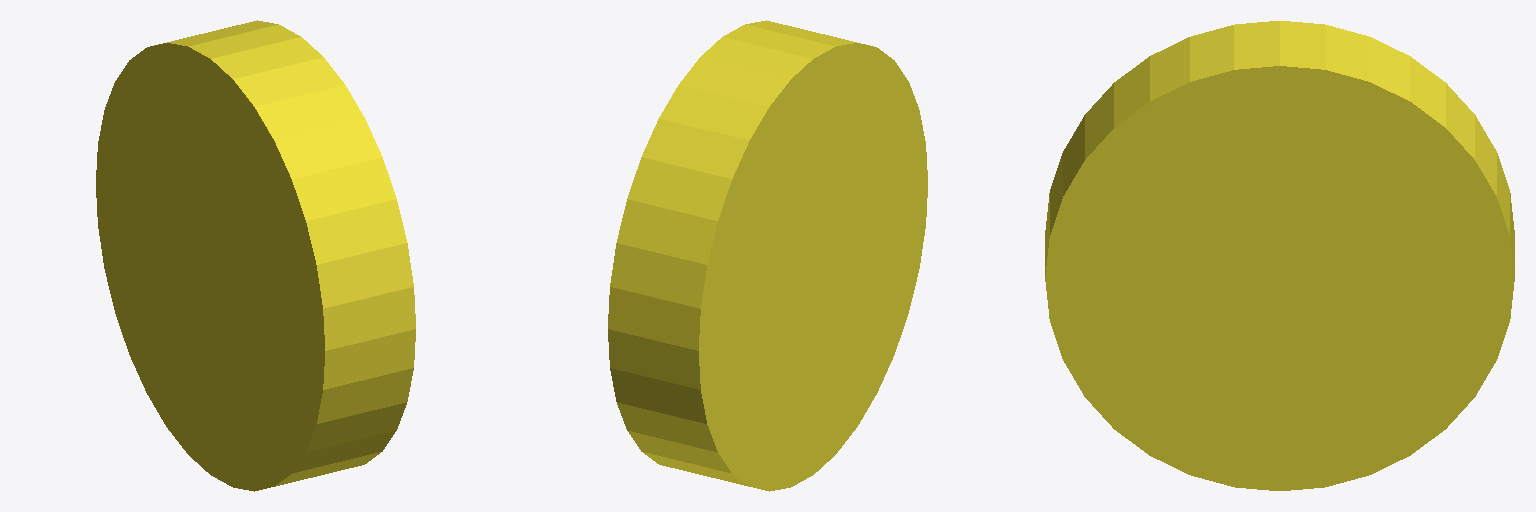
robot.urdf — panda:
<?xml version="1.0" ?>
<!-- =================================================================================== -->
<!-- |    This document was autogenerated by xacro from panda_arm_hand_ur5e_gripper_scene_real.urdf.xacro | -->
<!-- |    EDITING THIS FILE BY HAND IS NOT RECOMMENDED                                 | -->
<!-- =================================================================================== -->
<robot name="panda">
  <link name="world"/>
  <joint name="panda_with_ur5_gripper_joint_world" type="fixed">
    <parent link="world"/>
    <child link="panda_with_ur5_gripper_link0"/>
    <origin rpy="0 0 0" xyz="0 0 0"/>
  </joint>
  <link name="panda_with_ur5_gripper_link0">
    <visual>
      <origin rpy="0 0 0" xyz="0 0 0"/>
      <geometry>
        <mesh filename="file://[local-path]/xembody/cross_embodiment_ws/install/gazebo_env/share/gazebo_env/meshes/panda/visual/link0.dae"/>
      </geometry>
      <material name="LightGrey">
        <color rgba="0.7 0.7 0.7 1.0"/>
      </material>
    </visual>
    <collision>
      <geometry>
        <mesh filename="file://[local-path]/xembody/cross_embodiment_ws/install/gazebo_env/share/gazebo_env/meshes/panda/collision/link0.stl"/>
      </geometry>
    </collision>
    <inertial>
      <origin rpy="0 0 0" xyz="0 0 0"/>
      <mass value="2.8142028896"/>
      <inertia ixx="0.0129886979" ixy="0.0" ixz="0.0" iyy="0.0165355284" iyz="0" izz="0.0203311636"/>
    </inertial>
  </link>
  <link name="panda_with_ur5_gripper_link1">
    <visual>
      <origin rpy="0 0 0" xyz="0 0 0"/>
      <geometry>
        <mesh filename="file://[local-path]/xembody/cross_embodiment_ws/install/gazebo_env/share/gazebo_env/meshes/panda/visual/link1.dae"/>
      </geometry>
    </visual>
    <collision>
      <geometry>
        <mesh filename="file://[local-path]/xembody/cross_embodiment_ws/install/gazebo_env/share/gazebo_env/meshes/panda/collision/link1.stl"/>
      </geometry>
    </collision>
    <inertial>
      <origin rpy="0 0 0" xyz="0 0 0"/>
      <mass value="2.3599995791"/>
      <inertia ixx="0.0186863903" ixy="0.0" ixz="0.0" iyy="0.0143789874" iyz="0" izz="0.00906812"/>
    </inertial>
  </link>
  <joint name="panda_with_ur5_gripper_joint1" type="revolute">
    <safety_controller k_position="100.0" k_velocity="40.0" soft_lower_limit="-2.8973" soft_upper_limit="2.8973"/>
    <origin rpy="0 0 0" xyz="0 0 0.333"/>
    <parent link="panda_with_ur5_gripper_link0"/>
    <child link="panda_with_ur5_gripper_link1"/>
    <axis xyz="0 0 1"/>
    <limit effort="87" lower="-2.8973" upper="2.8973" velocity="2.1750"/>
  </joint>
  <link name="panda_with_ur5_gripper_link2">
    <visual>
      <origin rpy="0 0 0" xyz="0 0 0"/>
      <geometry>
        <mesh filename="file://[local-path]/xembody/cross_embodiment_ws/install/gazebo_env/share/gazebo_env/meshes/panda/visual/link2.dae"/>
      </geometry>
    </visual>
    <collision>
      <geometry>
        <mesh filename="file://[local-path]/xembody/cross_embodiment_ws/install/gazebo_env/share/gazebo_env/meshes/panda/collision/link2.stl"/>
      </geometry>
    </collision>
    <inertial>
      <origin rpy="0 0 0" xyz="0 0 0"/>
      <mass value="2.379518833"/>
      <inertia ixx="0.0190388734" ixy="0.0" ixz="0.0" iyy="0.0091429124" iyz="0" izz="0.014697537"/>
    </inertial>
  </link>
  <joint name="panda_with_ur5_gripper_joint2" type="revolute">
    <safety_controller k_position="100.0" k_velocity="40.0" soft_lower_limit="-1.7628" soft_upper_limit="1.7628"/>
    <origin rpy="-1.5707963267948966 0 0" xyz="0 0 0"/>
    <parent link="panda_with_ur5_gripper_link1"/>
    <child link="panda_with_ur5_gripper_link2"/>
    <axis xyz="0 0 1"/>
    <limit effort="87" lower="-1.7628" upper="1.7628" velocity="2.1750"/>
  </joint>
  <link name="panda_with_ur5_gripper_link3">
    <visual>
      <origin rpy="0 0 0" xyz="0 0 0"/>
      <geometry>
        <mesh filename="file://[local-path]/xembody/cross_embodiment_ws/install/gazebo_env/share/gazebo_env/meshes/panda/visual/link3.dae"/>
      </geometry>
    </visual>
    <collision>
      <geometry>
        <mesh filename="file://[local-path]/xembody/cross_embodiment_ws/install/gazebo_env/share/gazebo_env/meshes/panda/collision/link3.stl"/>
      </geometry>
    </collision>
    <inertial>
      <origin rpy="0 0 0" xyz="0 0 0"/>
      <mass value="2.6498823337"/>
      <inertia ixx="0.0129300178" ixy="0.0" ixz="0.0" iyy="0.0150242121" iyz="0" izz="0.0142734598"/>
    </inertial>
  </link>
  <joint name="panda_with_ur5_gripper_joint3" type="revolute">
    <safety_controller k_position="100.0" k_velocity="40.0" soft_lower_limit="-2.8973" soft_upper_limit="2.8973"/>
    <origin rpy="1.5707963267948966 0 0" xyz="0 -0.316 0"/>
    <parent link="panda_with_ur5_gripper_link2"/>
    <child link="panda_with_ur5_gripper_link3"/>
    <axis xyz="0 0 1"/>
    <limit effort="87" lower="-2.8973" upper="2.8973" velocity="2.1750"/>
  </joint>
  <link name="panda_with_ur5_gripper_link4">
    <visual>
      <origin rpy="0 0 0" xyz="0 0 0"/>
      <geometry>
        <mesh filename="file://[local-path]/xembody/cross_embodiment_ws/install/gazebo_env/share/gazebo_env/meshes/panda/visual/link4.dae"/>
      </geometry>
    </visual>
    <collision>
      <geometry>
        <mesh filename="file://[local-path]/xembody/cross_embodiment_ws/install/gazebo_env/share/gazebo_env/meshes/panda/collision/link4.stl"/>
      </geometry>
    </collision>
    <inertial>
      <origin rpy="0 0 0" xyz="0 0 0"/>
      <mass value="2.6948018744"/>
      <inertia ixx="0.0133874611" ixy="0.0" ixz="0.0" iyy="0.014514325" iyz="0" izz="0.0155175551"/>
    </inertial>
  </link>
  <joint name="panda_with_ur5_gripper_joint4" type="revolute">
    <safety_controller k_position="100.0" k_velocity="40.0" soft_lower_limit="-3.0718" soft_upper_limit="-0.0698"/>
    <origin rpy="1.5707963267948966 0 0" xyz="0.0825 0 0"/>
    <parent link="panda_with_ur5_gripper_link3"/>
    <child link="panda_with_ur5_gripper_link4"/>
    <axis xyz="0 0 1"/>
    <limit effort="87" lower="-3.0718" upper="-0.0698" velocity="2.1750"/>
  </joint>
  <link name="panda_with_ur5_gripper_link5">
    <visual>
      <origin rpy="0 0 0" xyz="0 0 0"/>
      <geometry>
        <mesh filename="file://[local-path]/xembody/cross_embodiment_ws/install/gazebo_env/share/gazebo_env/meshes/panda/visual/link5.dae"/>
      </geometry>
    </visual>
    <collision>
      <geometry>
        <mesh filename="file://[local-path]/xembody/cross_embodiment_ws/install/gazebo_env/share/gazebo_env/meshes/panda/collision/link5.stl"/>
      </geometry>
    </collision>
    <inertial>
      <origin rpy="0 0 0" xyz="0 0 0"/>
      <mass value="2.9812816864"/>
      <inertia ixx="0.0325565705" ixy="0.0" ixz="0.0" iyy="0.0270660472" iyz="0" izz="0.0115023375"/>
    </inertial>
  </link>
  <joint name="panda_with_ur5_gripper_joint5" type="revolute">
    <safety_controller k_position="100.0" k_velocity="40.0" soft_lower_limit="-2.8973" soft_upper_limit="2.8973"/>
    <origin rpy="-1.5707963267948966 0 0" xyz="-0.0825 0.384 0"/>
    <parent link="panda_with_ur5_gripper_link4"/>
    <child link="panda_with_ur5_gripper_link5"/>
    <axis xyz="0 0 1"/>
    <limit effort="12" lower="-2.8973" upper="2.8973" velocity="2.6100"/>
  </joint>
  <link name="panda_with_ur5_gripper_link6">
    <visual>
      <origin rpy="0 0 0" xyz="0 0 0"/>
      <geometry>
        <mesh filename="file://[local-path]/xembody/cross_embodiment_ws/install/gazebo_env/share/gazebo_env/meshes/panda/visual/link6.dae"/>
      </geometry>
    </visual>
    <collision>
      <geometry>
        <mesh filename="file://[local-path]/xembody/cross_embodiment_ws/install/gazebo_env/share/gazebo_env/meshes/panda/collision/link6.stl"/>
      </geometry>
    </collision>
    <inertial>
      <origin rpy="0 0 0" xyz="0 0 0"/>
      <mass value="1.1285806309"/>
      <inertia ixx="0.0026052565" ixy="0.0" ixz="0.0" iyy="0.0039897229" iyz="0" izz="0.0047048591"/>
    </inertial>
  </link>
  <joint name="panda_with_ur5_gripper_joint6" type="revolute">
    <safety_controller k_position="100.0" k_velocity="40.0" soft_lower_limit="-0.0175" soft_upper_limit="3.7525"/>
    <origin rpy="1.5707963267948966 0 0" xyz="0 0 0"/>
    <parent link="panda_with_ur5_gripper_link5"/>
    <child link="panda_with_ur5_gripper_link6"/>
    <axis xyz="0 0 1"/>
    <limit effort="12" lower="-0.0175" upper="3.7525" velocity="2.6100"/>
  </joint>
  <link name="panda_with_ur5_gripper_link7">
    <visual>
      <origin rpy="0 0 0" xyz="0 0 0"/>
      <geometry>
        <mesh filename="file://[local-path]/xembody/cross_embodiment_ws/install/gazebo_env/share/gazebo_env/meshes/panda/visual/link7.dae"/>
      </geometry>
    </visual>
    <collision>
      <geometry>
        <mesh filename="file://[local-path]/xembody/cross_embodiment_ws/install/gazebo_env/share/gazebo_env/meshes/panda/collision/link7.stl"/>
      </geometry>
    </collision>
    <inertial>
      <origin rpy="0 0 0" xyz="0 0 0"/>
      <mass value="0.4052912465"/>
      <inertia ixx="0.0006316592" ixy="0.0" ixz="0.0" iyy="0.0006319639" iyz="0" izz="0.0010607721"/>
    </inertial>
  </link>
  <joint name="panda_with_ur5_gripper_joint7" type="revolute">
    <safety_controller k_position="100.0" k_velocity="40.0" soft_lower_limit="-2.8973" soft_upper_limit="2.8973"/>
    <origin rpy="1.5707963267948966 0 0" xyz="0.088 0 0"/>
    <parent link="panda_with_ur5_gripper_link6"/>
    <child link="panda_with_ur5_gripper_link7"/>
    <axis xyz="0 0 1"/>
    <limit effort="12" lower="-2.8973" upper="2.8973" velocity="2.6100"/>
  </joint>
  <link name="panda_with_ur5_gripper_link8"/>
  <joint name="panda_with_ur5_gripper_joint8" type="fixed">
    <origin rpy="0 0 0" xyz="0 0 0.107"/>
    <parent link="panda_with_ur5_gripper_link7"/>
    <child link="panda_with_ur5_gripper_link8"/>
    <axis xyz="0 0 0"/>
  </joint>
  <joint name="ee_fixed_joint" type="fixed">
    <parent link="panda_with_ur5_gripper_link8"/>
    <child link="ee_link"/>
    <origin rpy="0.0 0.0 1.57079632679" xyz="0.0 0.1 0.0"/>
  </joint>
  <link name="ee_link">
    <collision>
      <geometry>
        <box size="0.01 0.01 0.01"/>
      </geometry>
      <origin rpy="0 0 0" xyz="-0.01 0 0"/>
    </collision>
  </link>
  <joint name="arm_gripper_adapter_joint" type="fixed">
    <parent link="panda_with_ur5_gripper_link8"/>
    <child link="adapter_link"/>
    <origin rpy="0.0 0.0 0.0" xyz="0.0 0.0 0.0"/>
  </joint>
  <gazebo reference="adapter_link">
    <material>Gazebo/Black</material>
  </gazebo>
  <link name="adapter_link">
    <visual>
      <geometry>
        <cylinder length="0.016" radius="0.035"/>
      </geometry>
      <origin rpy="0 0 0" xyz="0 0 0.008"/>
    </visual>
    <inertial>
      <origin rpy="0 0 0" xyz="0 0 0"/>
      <mass value="1.1285806309"/>
      <inertia ixx="0.0026052565" ixy="0.0" ixz="0.0" iyy="0.0039897229" iyz="0" izz="0.0047048591"/>
    </inertial>
  </link>
  <joint name="arm_gripper_joint" type="fixed">
    <parent link="adapter_link"/>
    <child link="robotiq_85_base_link"/>
    <origin rpy="0.0 -1.5708 0.0" xyz="0.0 0.0 0.016"/>
  </joint>
  <link name="robotiq_85_base_link">
    <visual>
      <origin rpy="0 0 0" xyz="0 0 0"/>
      <geometry>
        <mesh filename="file://[local-path]/xembody/cross_embodiment_ws/install/gazebo_env/share/gazebo_env/meshes/ur5e_nvidia/robotiq_85_gripper/visual/robotiq_85_base_link.dae"/>
      </geometry>
    </visual>
    <collision>
      <geometry>
        <mesh filename="file://[local-path]/xembody/cross_embodiment_ws/install/gazebo_env/share/gazebo_env/meshes/ur5e_nvidia/robotiq_85_gripper/collision/robotiq_85_base_link.stl"/>
      </geometry>
    </collision>
    <inertial>
      <mass value="0.636951"/>
      <origin xyz="0.0 0.0 0.0"/>
      <inertia ixx="0.000380" ixy="0.000000" ixz="0.000000" iyx="0.000000" iyy="0.001110" iyz="0.000000" izx="0.000000" izy="0.000000" izz="0.001171"/>
    </inertial>
  </link>
  <joint name="ur5_ee_gripper_joint" type="fixed">
    <parent link="robotiq_85_base_link"/>
    <child link="ur5_ee_gripper"/>
    <origin rpy="-1.571 0 -1.571" xyz="0.127 0.0 0.0"/>
  </joint>
  <link name="ur5_ee_gripper"/>
  <joint name="robotiq_85_left_knuckle_joint" type="revolute">
    <parent link="robotiq_85_base_link"/>
    <child link="robotiq_85_left_knuckle_link"/>
    <axis xyz="0 0 1"/>
    <origin rpy="3.14 0.0 0.0" xyz="0.05490451627 0.03060114443 0.0"/>
    <limit effort="1000" lower="0.0" upper="0.80285" velocity="3.14"/>
  </joint>
  <joint name="robotiq_85_right_knuckle_joint" type="revolute">
    <parent link="robotiq_85_base_link"/>
    <child link="robotiq_85_right_knuckle_link"/>
    <axis xyz="0 0 1"/>
    <origin rpy="0.0 0.0 0.0" xyz="0.05490451627 -0.03060114443 0.0"/>
    <limit effort="1000" lower="-3.14" upper="3.14" velocity="3.14"/>
    <mimic joint="robotiq_85_left_knuckle_joint"/>
  </joint>
  <link name="robotiq_85_left_knuckle_link">
    <visual>
      <origin rpy="0 0 0" xyz="0 0 0"/>
      <geometry>
        <mesh filename="file://[local-path]/xembody/cross_embodiment_ws/install/gazebo_env/share/gazebo_env/meshes/ur5e_nvidia/robotiq_85_gripper/visual/robotiq_85_knuckle_link.dae"/>
      </geometry>
    </visual>
    <collision>
      <geometry>
        <mesh filename="file://[local-path]/xembody/cross_embodiment_ws/install/gazebo_env/share/gazebo_env/meshes/ur5e_nvidia/robotiq_85_gripper/collision/robotiq_85_knuckle_link.stl"/>
      </geometry>
    </collision>
    <inertial>
      <mass value="0.018491"/>
      <origin xyz="0.0 0.0 0.0"/>
      <inertia ixx="0.000009" ixy="-0.000001" ixz="0.000000" iyx="-0.000001" iyy="0.000001" iyz="0.000000" izx="0.000000" izy="0.000000" izz="0.000010"/>
    </inertial>
  </link>
  <link name="robotiq_85_right_knuckle_link">
    <visual>
      <origin rpy="0 0 0" xyz="0 0 0"/>
      <geometry>
        <mesh filename="file://[local-path]/xembody/cross_embodiment_ws/install/gazebo_env/share/gazebo_env/meshes/ur5e_nvidia/robotiq_85_gripper/visual/robotiq_85_knuckle_link.dae"/>
      </geometry>
    </visual>
    <collision>
      <geometry>
        <mesh filename="file://[local-path]/xembody/cross_embodiment_ws/install/gazebo_env/share/gazebo_env/meshes/ur5e_nvidia/robotiq_85_gripper/collision/robotiq_85_knuckle_link.stl"/>
      </geometry>
    </collision>
    <inertial>
      <mass value="0.018491"/>
      <origin xyz="0.0 0.0 0.0"/>
      <inertia ixx="0.000009" ixy="-0.000001" ixz="0.000000" iyx="-0.000001" iyy="0.000001" iyz="0.000000" izx="0.000000" izy="0.000000" izz="0.000010"/>
    </inertial>
  </link>
  <joint name="robotiq_85_left_finger_joint" type="fixed">
    <parent link="robotiq_85_left_knuckle_link"/>
    <child link="robotiq_85_left_finger_link"/>
    <origin rpy="0 0 0" xyz="-0.00408552455 -0.03148604435 0.0"/>
  </joint>
  <joint name="robotiq_85_right_finger_joint" type="fixed">
    <parent link="robotiq_85_right_knuckle_link"/>
    <child link="robotiq_85_right_finger_link"/>
    <origin rpy="0 0 0" xyz="-0.00408552455 -0.03148604435 0.0"/>
  </joint>
  <link name="robotiq_85_left_finger_link">
    <visual>
      <origin rpy="0 0 0" xyz="0 0 0"/>
      <geometry>
        <mesh filename="file://[local-path]/xembody/cross_embodiment_ws/install/gazebo_env/share/gazebo_env/meshes/ur5e_nvidia/robotiq_85_gripper/visual/robotiq_85_finger_link.dae"/>
      </geometry>
    </visual>
    <collision>
      <geometry>
        <mesh filename="file://[local-path]/xembody/cross_embodiment_ws/install/gazebo_env/share/gazebo_env/meshes/ur5e_nvidia/robotiq_85_gripper/collision/robotiq_85_finger_link.stl"/>
      </geometry>
    </collision>
    <inertial>
      <mass value="0.027309"/>
      <origin xyz="0.0 0.0 0.0"/>
      <inertia ixx="0.000003" ixy="-0.000002" ixz="0.000000" iyx="-0.000002" iyy="0.000021" iyz="0.000000" izx="0.000000" izy="0.000000" izz="0.000020"/>
    </inertial>
  </link>
  <link name="robotiq_85_right_finger_link">
    <visual>
      <origin rpy="0 0 0" xyz="0 0 0"/>
      <geometry>
        <mesh filename="file://[local-path]/xembody/cross_embodiment_ws/install/gazebo_env/share/gazebo_env/meshes/ur5e_nvidia/robotiq_85_gripper/visual/robotiq_85_finger_link.dae"/>
      </geometry>
    </visual>
    <collision>
      <geometry>
        <mesh filename="file://[local-path]/xembody/cross_embodiment_ws/install/gazebo_env/share/gazebo_env/meshes/ur5e_nvidia/robotiq_85_gripper/collision/robotiq_85_finger_link.stl"/>
      </geometry>
    </collision>
    <inertial>
      <mass value="0.027309"/>
      <origin xyz="0.0 0.0 0.0"/>
      <inertia ixx="0.000003" ixy="-0.000002" ixz="0.000000" iyx="-0.000002" iyy="0.000021" iyz="0.000000" izx="0.000000" izy="0.000000" izz="0.000020"/>
    </inertial>
  </link>
  <joint name="robotiq_85_left_inner_knuckle_joint" type="revolute">
    <parent link="robotiq_85_base_link"/>
    <child link="robotiq_85_left_inner_knuckle_link"/>
    <axis xyz="0 0 1"/>
    <origin rpy="3.14 0.0 0.0" xyz="0.06142 0.0127 0"/>
    <limit effort="0.1" lower="-3.14" upper="3.14" velocity="3.14"/>
    <mimic joint="robotiq_85_left_knuckle_joint" offset="0"/>
  </joint>
  <joint name="robotiq_85_right_inner_knuckle_joint" type="revolute">
    <parent link="robotiq_85_base_link"/>
    <child link="robotiq_85_right_inner_knuckle_link"/>
    <axis xyz="0 0 1"/>
    <origin rpy="0 0 0" xyz="0.06142 -0.0127 0"/>
    <limit effort="0.1" lower="-3.14" upper="3.14" velocity="3.14"/>
    <mimic joint="robotiq_85_left_knuckle_joint" offset="0"/>
  </joint>
  <link name="robotiq_85_left_inner_knuckle_link">
    <visual>
      <origin rpy="0 0 0" xyz="0 0 0"/>
      <geometry>
        <mesh filename="file://[local-path]/xembody/cross_embodiment_ws/install/gazebo_env/share/gazebo_env/meshes/ur5e_nvidia/robotiq_85_gripper/visual/robotiq_85_inner_knuckle_link.dae"/>
      </geometry>
    </visual>
    <collision>
      <geometry>
        <mesh filename="file://[local-path]/xembody/cross_embodiment_ws/install/gazebo_env/share/gazebo_env/meshes/ur5e_nvidia/robotiq_85_gripper/collision/robotiq_85_inner_knuckle_link.stl"/>
      </geometry>
    </collision>
    <inertial>
      <mass value="0.029951"/>
      <origin xyz="0.0 0.0 0.0"/>
      <inertia ixx="0.000039" ixy="0.000000" ixz="0.000000" iyx="0.000000" iyy="0.000005" iyz="0.000000" izx="0.000000" izy="0.000000" izz="0.000035"/>
    </inertial>
  </link>
  <link name="robotiq_85_right_inner_knuckle_link">
    <visual>
      <origin rpy="0 0 0" xyz="0 0 0"/>
      <geometry>
        <mesh filename="file://[local-path]/xembody/cross_embodiment_ws/install/gazebo_env/share/gazebo_env/meshes/ur5e_nvidia/robotiq_85_gripper/visual/robotiq_85_inner_knuckle_link.dae"/>
      </geometry>
    </visual>
    <collision>
      <geometry>
        <mesh filename="file://[local-path]/xembody/cross_embodiment_ws/install/gazebo_env/share/gazebo_env/meshes/ur5e_nvidia/robotiq_85_gripper/collision/robotiq_85_inner_knuckle_link.stl"/>
      </geometry>
    </collision>
    <inertial>
      <mass value="0.029951"/>
      <origin xyz="0.0 0.0 0.0"/>
      <inertia ixx="0.000039" ixy="0.000000" ixz="0.000000" iyx="0.000000" iyy="0.000005" iyz="0.000000" izx="0.000000" izy="0.000000" izz="0.000035"/>
    </inertial>
  </link>
  <joint name="robotiq_85_left_finger_tip_joint" type="revolute">
    <parent link="robotiq_85_left_inner_knuckle_link"/>
    <child link="robotiq_85_left_finger_tip_link"/>
    <axis xyz="0 0 1"/>
    <origin rpy="0.0 0.0 0.0" xyz="0.04303959807 -0.03759940821 0.0"/>
    <limit effort="0.1" lower="-3.14" upper="3.14" velocity="3.14"/>
    <mimic joint="robotiq_85_left_knuckle_joint" multiplier="-1"/>
  </joint>
  <joint name="robotiq_85_right_finger_tip_joint" type="revolute">
    <parent link="robotiq_85_right_inner_knuckle_link"/>
    <child link="robotiq_85_right_finger_tip_link"/>
    <axis xyz="0 0 1"/>
    <origin rpy="0.0 0.0 0.0" xyz="0.04303959807 -0.03759940821  0.0"/>
    <limit effort="0.1" lower="-3.14" upper="3.14" velocity="3.14"/>
    <mimic joint="robotiq_85_left_knuckle_joint" multiplier="-1"/>
  </joint>
  <link name="robotiq_85_left_finger_tip_link">
    <visual>
      <origin rpy="0 0 0" xyz="0 0 0"/>
      <geometry>
        <mesh filename="file://[local-path]/xembody/cross_embodiment_ws/install/gazebo_env/share/gazebo_env/meshes/ur5e_nvidia/robotiq_85_gripper/visual/robotiq_85_finger_tip_link.dae"/>
      </geometry>
    </visual>
    <collision>
      <geometry>
        <mesh filename="file://[local-path]/xembody/cross_embodiment_ws/install/gazebo_env/share/gazebo_env/meshes/ur5e_nvidia/robotiq_85_gripper/collision/robotiq_85_finger_tip_link.stl"/>
      </geometry>
    </collision>
    <inertial>
      <mass value="0.019555"/>
      <origin xyz="0.0 0.0 0.0"/>
      <inertia ixx="0.000002" ixy="0.000000" ixz="0.000000" iyx="0.000000" iyy="0.000005" iyz="0.000000" izx="0.000000" izy="0.000000" izz="0.000006"/>
    </inertial>
  </link>
  <link name="robotiq_85_right_finger_tip_link">
    <visual>
      <origin rpy="0 0 0" xyz="0 0 0"/>
      <geometry>
        <mesh filename="file://[local-path]/xembody/cross_embodiment_ws/install/gazebo_env/share/gazebo_env/meshes/ur5e_nvidia/robotiq_85_gripper/visual/robotiq_85_finger_tip_link.dae"/>
      </geometry>
    </visual>
    <collision>
      <geometry>
        <mesh filename="file://[local-path]/xembody/cross_embodiment_ws/install/gazebo_env/share/gazebo_env/meshes/ur5e_nvidia/robotiq_85_gripper/collision/robotiq_85_finger_tip_link.stl"/>
      </geometry>
    </collision>
    <inertial>
      <mass value="0.019555"/>
      <origin xyz="0.0 0.0 0.0"/>
      <inertia ixx="0.000002" ixy="0.000000" ixz="0.000000" iyx="0.000000" iyy="0.000005" iyz="0.000000" izx="0.000000" izy="0.000000" izz="0.000006"/>
    </inertial>
  </link>
  <link name="tool0"/>
  <joint name="wrist_3_link-tool0_fixed_joint" type="fixed">
    <origin rpy="0 0 0" xyz="0 0 0.1"/>
    <parent link="panda_with_ur5_gripper_link8"/>
    <child link="tool0"/>
  </joint>
  <link name="panda_ee_link"/>
  <joint name="link8_to_panda_ee_link_fixed_joint" type="fixed">
    <origin rpy="0 0 0" xyz="0 0 0"/>
    <parent link="panda_with_ur5_gripper_link8"/>
    <child link="panda_ee_link"/>
  </joint>
  <gazebo>
    <plugin filename="libno_physics_plugin.so" name="no_physics"/>
  </gazebo>
  <gazebo>
    <plugin filename="libpanda_control_ur5e_gripper_real_plugin.so" name="panda_control_real"/>
  </gazebo>
</robot>

--- Render facts (derived) ---
3 views of the same robot in one strip: view 1: azimuth 30°, elevation 25°; view 2: azimuth 150°, elevation 25°; view 3: azimuth 270°, elevation 25° (orthographic).
Model panda with 24 links and 23 joints (13 revolute, 10 fixed), rooted at world, posed all joints at 0 but 1 set to mid-range because 0 is outside their limits (panda_with_ur5_gripper_joint4 = -1.57).
Visible links, largest first — view 1: adapter_link; view 2: adapter_link; view 3: adapter_link.
Link boxes in pixels (<box>): adapter_link: <box>96,20,415,491</box>; adapter_link: <box>608,20,927,491</box>; adapter_link: <box>1045,21,1514,490</box>.
Size in the robot's own frame: 0.016 by 0.07 by 0.07 metres.
Geometry: only primitive shapes (box / cylinder / sphere) drawn; not drawn: 17 mesh visuals (reference in a form the renderer does not follow).